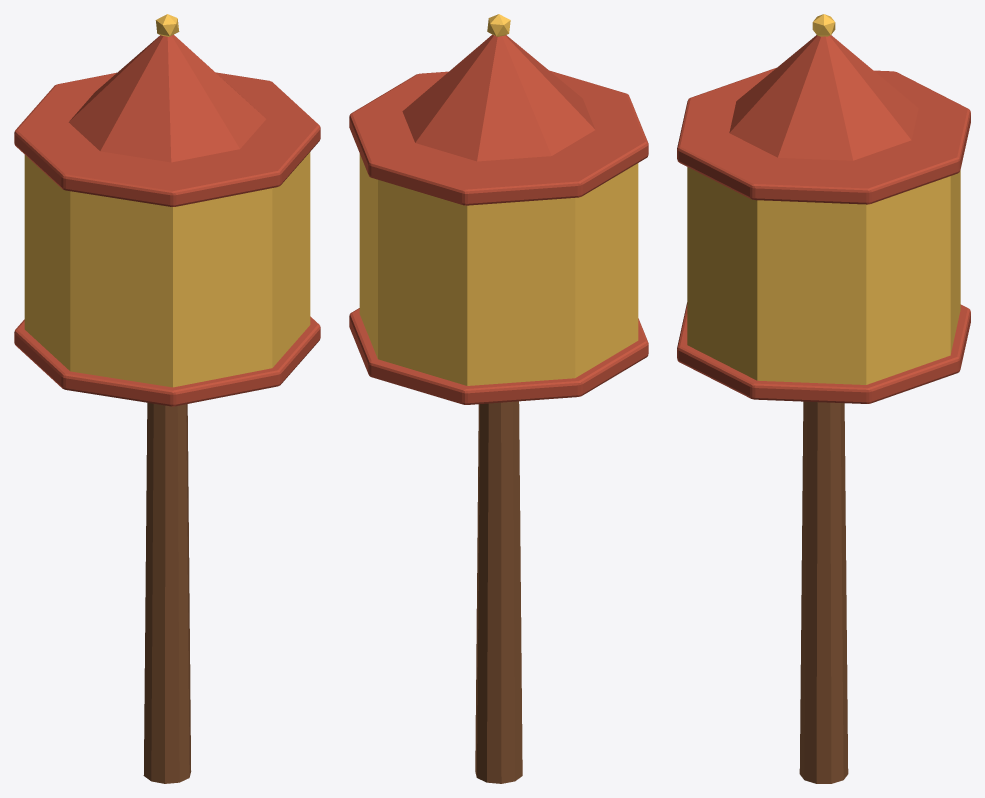
File: den-keo-quan.glb
3 renders of one model, left to right at view 1: azimuth 30°, elevation 25°; view 2: azimuth 150°, elevation 25°; view 3: azimuth 270°, elevation 25°, orthographic.
Parts seen in each view (by area): view 1: den-keo-quan-1, den-keo-quan-3, den-keo-quan-0, den-keo-quan-4, den-keo-quan-2; view 2: den-keo-quan-1, den-keo-quan-3, den-keo-quan-0, den-keo-quan-4, den-keo-quan-2; view 3: den-keo-quan-1, den-keo-quan-3, den-keo-quan-0, den-keo-quan-4, den-keo-quan-2.
Boxes of the visible parts, x1,y1,x2,y2 form: den-keo-quan-1: [24, 152, 310, 387]; den-keo-quan-3: [14, 72, 320, 206]; den-keo-quan-0: [143, 402, 191, 783]; den-keo-quan-4: [68, 34, 265, 162]; den-keo-quan-2: [14, 316, 320, 406]; den-keo-quan-1: [359, 154, 638, 385]; den-keo-quan-3: [349, 70, 648, 205]; den-keo-quan-0: [475, 401, 522, 783]; den-keo-quan-4: [402, 34, 595, 161]; den-keo-quan-2: [349, 308, 648, 404]; den-keo-quan-1: [687, 167, 960, 384]; den-keo-quan-3: [677, 67, 970, 204]; den-keo-quan-0: [799, 401, 848, 783]; den-keo-quan-4: [729, 35, 918, 160]; den-keo-quan-2: [677, 302, 970, 403].
Size of the model in its own units: 2.67 by 7.62 by 2.67.
